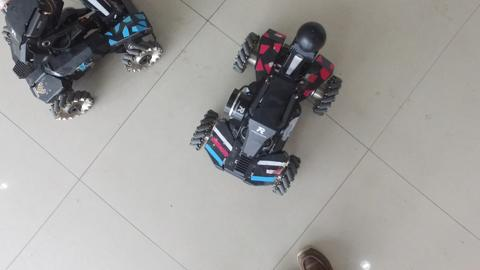chariot: (178, 10, 348, 205), (1, 1, 168, 126)
